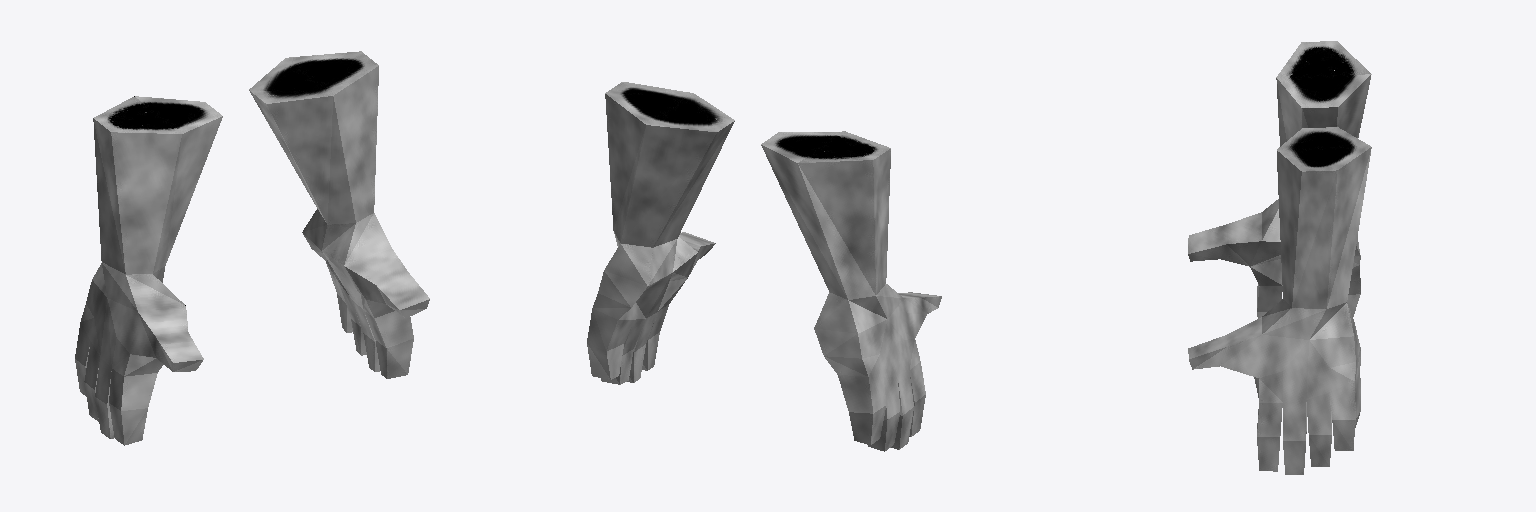
3 views of the same model, side by side, from view 1: azimuth 30°, elevation 25°; view 2: azimuth 150°, elevation 25°; view 3: azimuth 270°, elevation 25° (orthographic).
Parts seen in each view (by area): view 1: Mesh_HumanMale_Materia.004; view 2: Mesh_HumanMale_Materia.004; view 3: Mesh_HumanMale_Materia.004.
Part boxes in pixels (x1,y1,x2,y2): Mesh_HumanMale_Materia.004: (75,51,429,445); Mesh_HumanMale_Materia.004: (587,82,941,451); Mesh_HumanMale_Materia.004: (1188,41,1371,474).
Bounding box in the file's own units: 0.4265 × 0.416 × 0.2295.
1 materials, 1 textured.